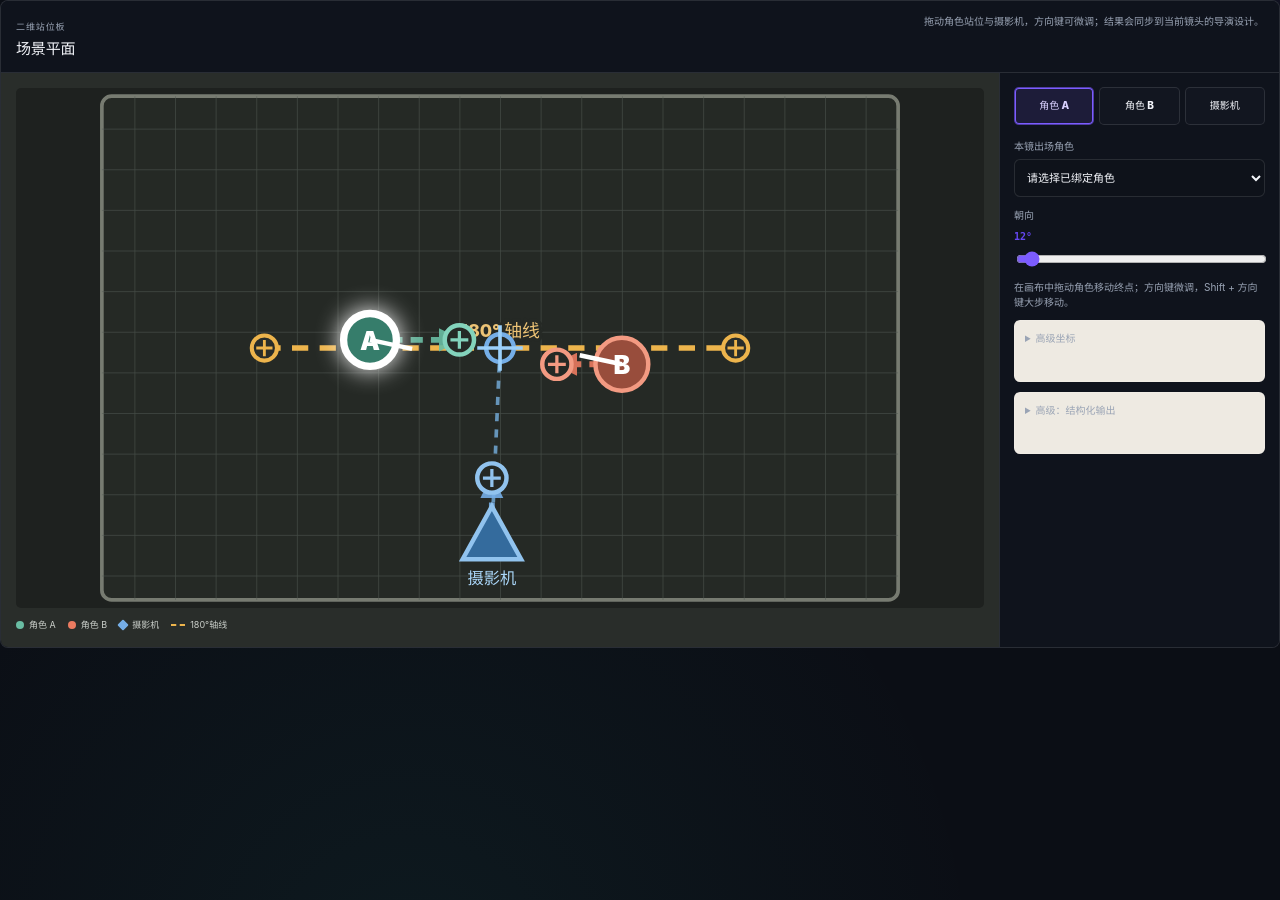
StagingBoard creator controls › selects shot-bound character assets and keeps coordinates in advanced disclosure
The width and height of the screenshot is (1280, 900).
Select "阿宁 · CHARACTER_ANING" in the dropdown named "角色 A 资产". click: (1140, 178)
box: 1014,159 -> 1265,197
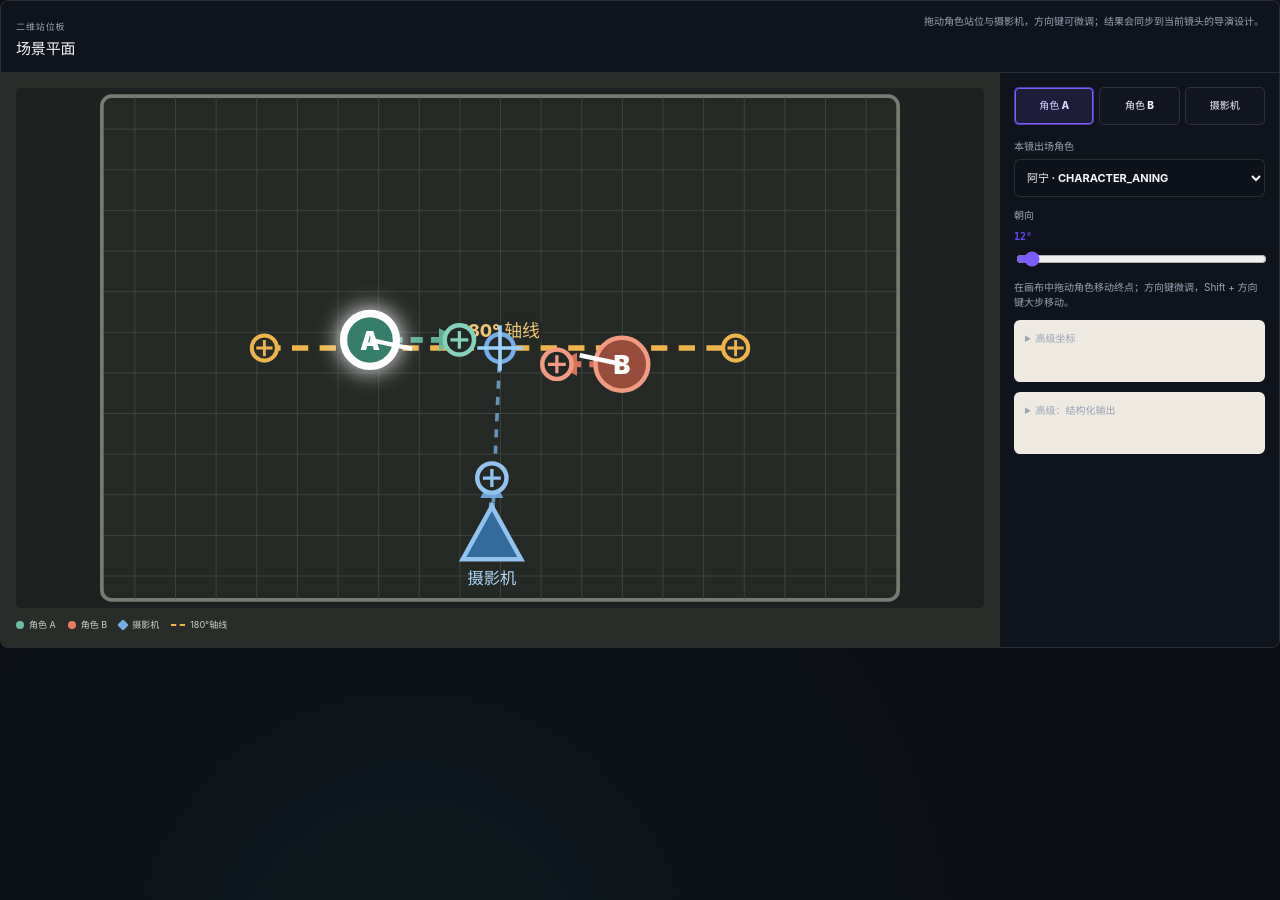
Click the heading "高级坐标". click: (1056, 338)
box: 1036,332 -> 1076,344
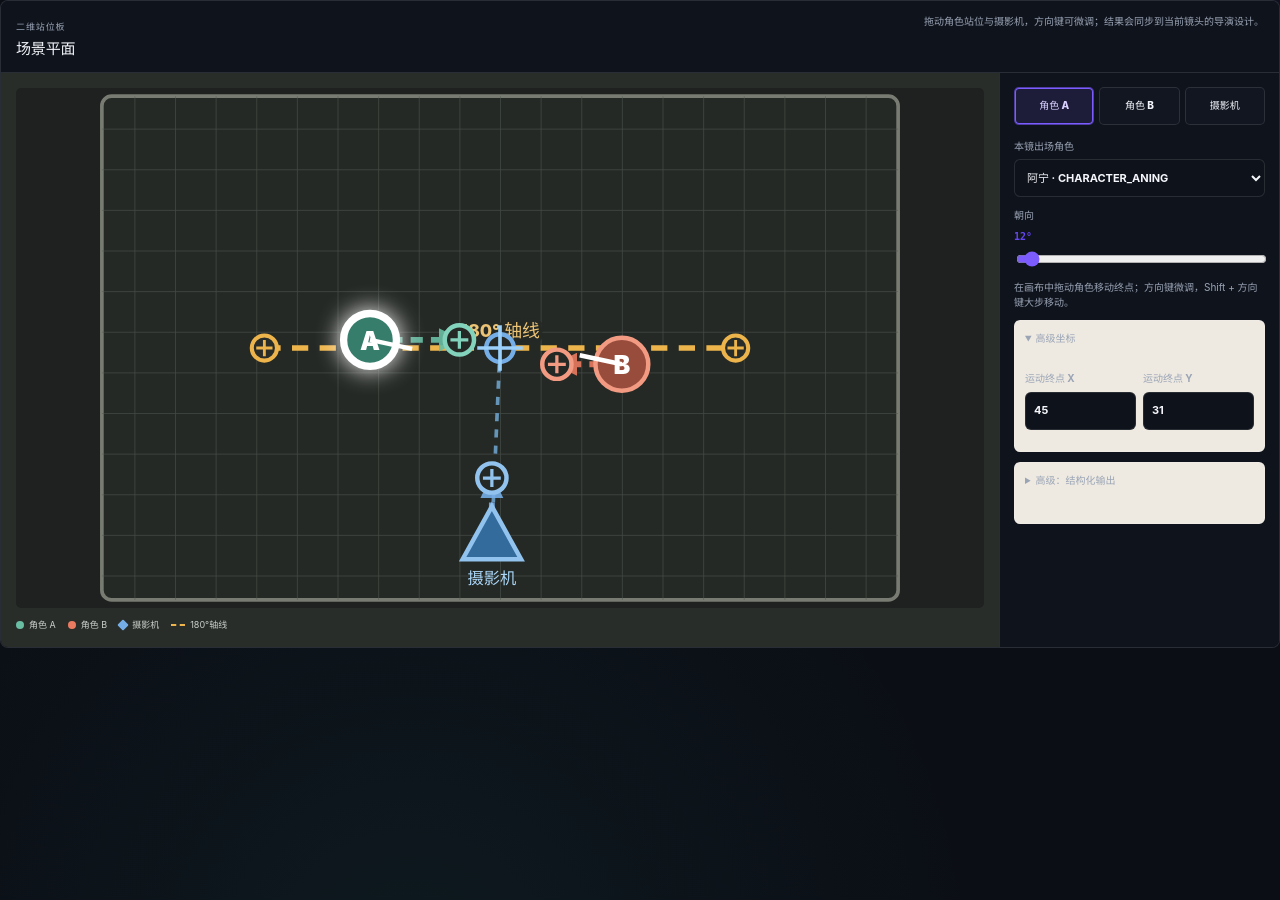
Now the number field labelled "运动终点 X" is shown, box 1025,392 -> 1136,430
Now the number field labelled "运动终点 Y" is shown, box 1143,392 -> 1254,430
